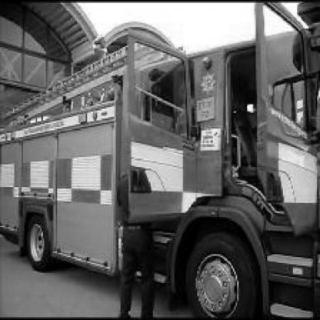other: (260, 113, 318, 230)
